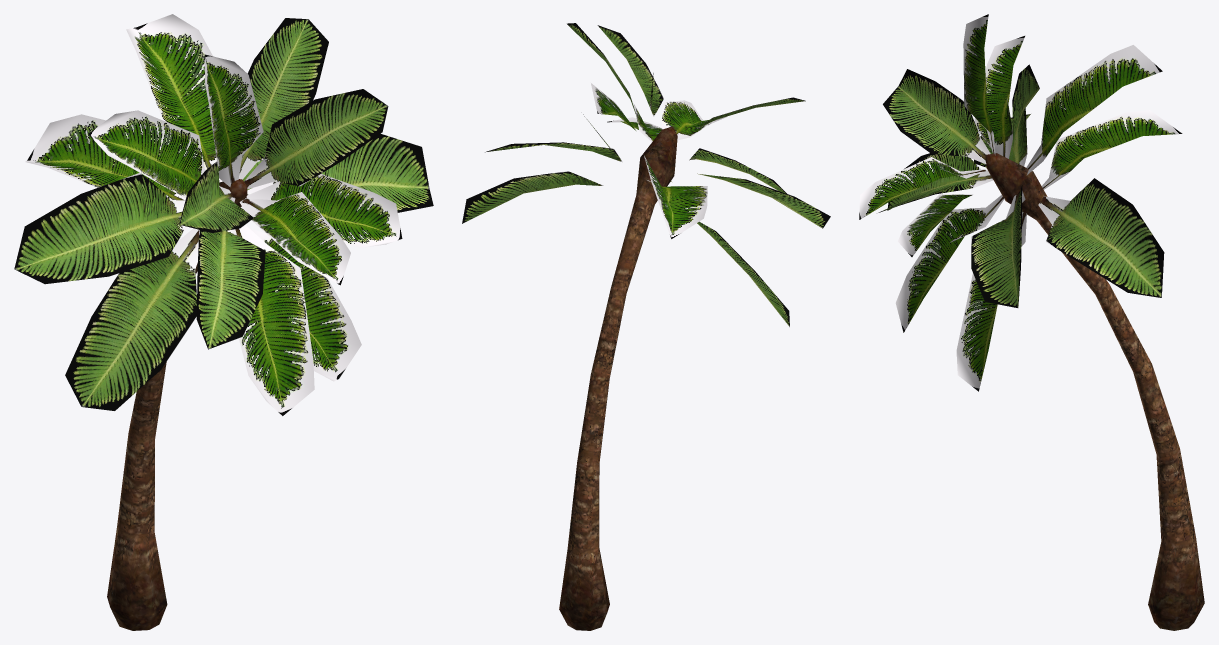
File: AlphaPalm2.gltf
3 renders of one model, left to right at view 1: azimuth 30°, elevation 25°; view 2: azimuth 150°, elevation 25°; view 3: azimuth 270°, elevation 25°, orthographic. The views are drawn at different scales.
Parts seen in each view (by area): view 1: Mesh04, Palm; view 2: Mesh04, Palm; view 3: Mesh04, Palm.
Boxes of the visible parts, x1,y1,x2,y2 form: Mesh04: (14,14,433,415); Palm: (107,179,247,630); Mesh04: (462,23,830,326); Palm: (559,126,677,630); Mesh04: (859,14,1182,391); Palm: (985,153,1204,630).
Size of the model in its own units: 9.01 by 13.72 by 7.25.
2 materials, 2 textured.
